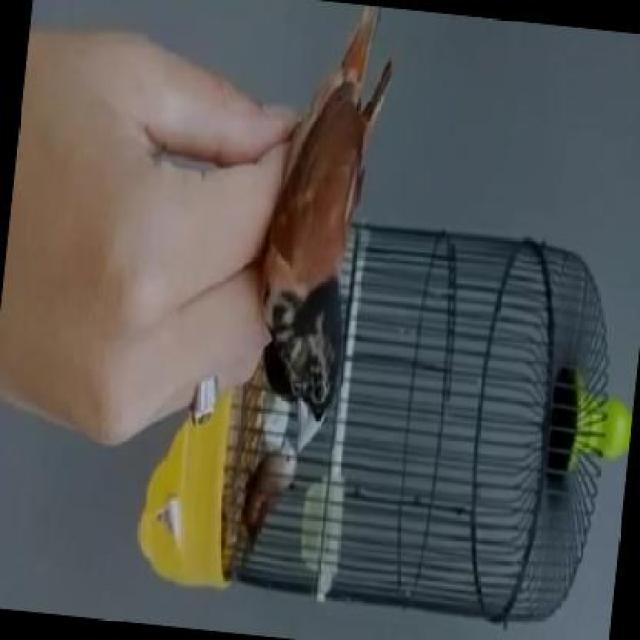Bird: (192, 9, 422, 391), (228, 432, 333, 579)
